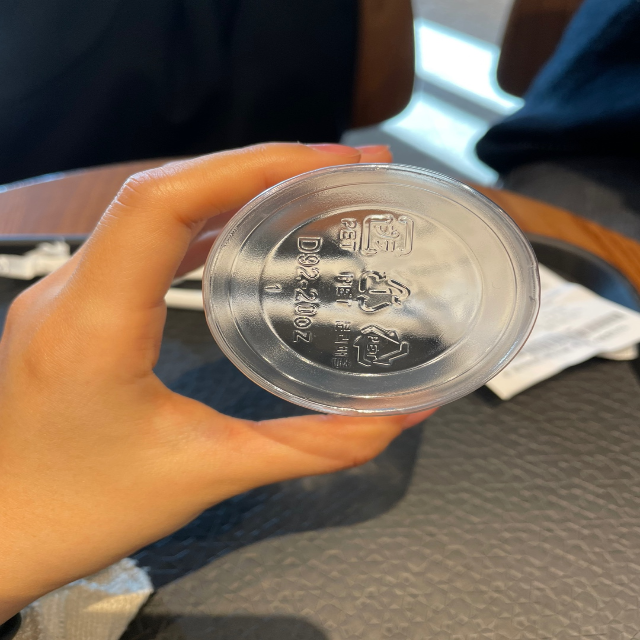pet: (327, 260, 412, 314), (337, 205, 420, 260), (333, 317, 412, 373)
